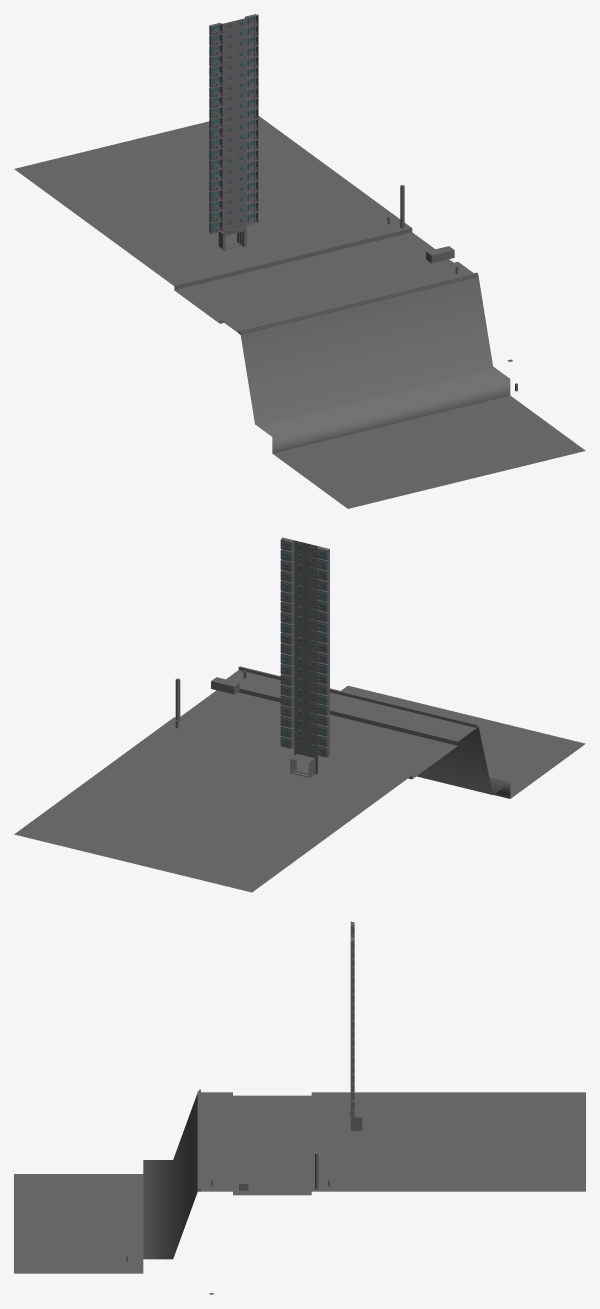
The model's file is m_BaseBlock_TypeA_01.fbx.
3 renders of one model, top to bottom at view 1: azimuth 30°, elevation 25°; view 2: azimuth 150°, elevation 25°; view 3: azimuth 270°, elevation 25°, orthographic. The views are drawn at different scales.
Parts seen in each view (by area): view 1: polySurface441, pPlane28, polySurface440, polySurface442, polySurface443, polySurface464, polySurface460, polySurface462, polySurface463, polySurface461, pPlane27, pCube24; view 2: pPlane28, polySurface440, polySurface443, polySurface441, polySurface464, polySurface460, polySurface461, polySurface462, polySurface463, polySurface442, pCube24, polySurface433; view 3: pPlane28, polySurface440, polySurface443, polySurface442, polySurface441, pPlane27.
Boxes of the visible parts, left/top/right/bottom form: polySurface441: left=240, top=277, right=510, bottom=453; pPlane28: left=14, top=116, right=388, bottom=269; polySurface440: left=151, top=211, right=473, bottom=332; polySurface442: left=279, top=400, right=551, bottom=483; polySurface443: left=314, top=426, right=585, bottom=508; polySurface464: left=209, top=14, right=258, bottom=67; polySurface460: left=209, top=181, right=258, bottom=233; polySurface462: left=209, top=98, right=258, bottom=150; polySurface463: left=209, top=56, right=258, bottom=109; polySurface461: left=209, top=139, right=258, bottom=192; pPlane27: left=273, top=395, right=516, bottom=458; pCube24: left=238, top=272, right=478, bottom=334; pPlane28: left=14, top=734, right=388, bottom=892; polySurface440: left=151, top=670, right=476, bottom=791; polySurface443: left=341, top=685, right=585, bottom=768; polySurface441: left=416, top=727, right=510, bottom=798; polySurface464: left=280, top=537, right=329, bottom=591; polySurface460: left=280, top=705, right=329, bottom=757; polySurface461: left=280, top=663, right=329, bottom=715; polySurface462: left=280, top=622, right=329, bottom=674; polySurface463: left=280, top=580, right=329, bottom=632; polySurface442: left=484, top=752, right=550, bottom=793; pCube24: left=238, top=666, right=478, bottom=727; polySurface433: left=290, top=748, right=317, bottom=778; pPlane28: left=351, top=1092, right=585, bottom=1191; polySurface440: left=201, top=1092, right=350, bottom=1195; polySurface443: left=14, top=1174, right=72, bottom=1273; polySurface442: left=73, top=1174, right=131, bottom=1273; polySurface441: left=143, top=1093, right=197, bottom=1259; pPlane27: left=131, top=1174, right=143, bottom=1273.
Size of the model in its own units: 7052 by 7900 by 14576.
